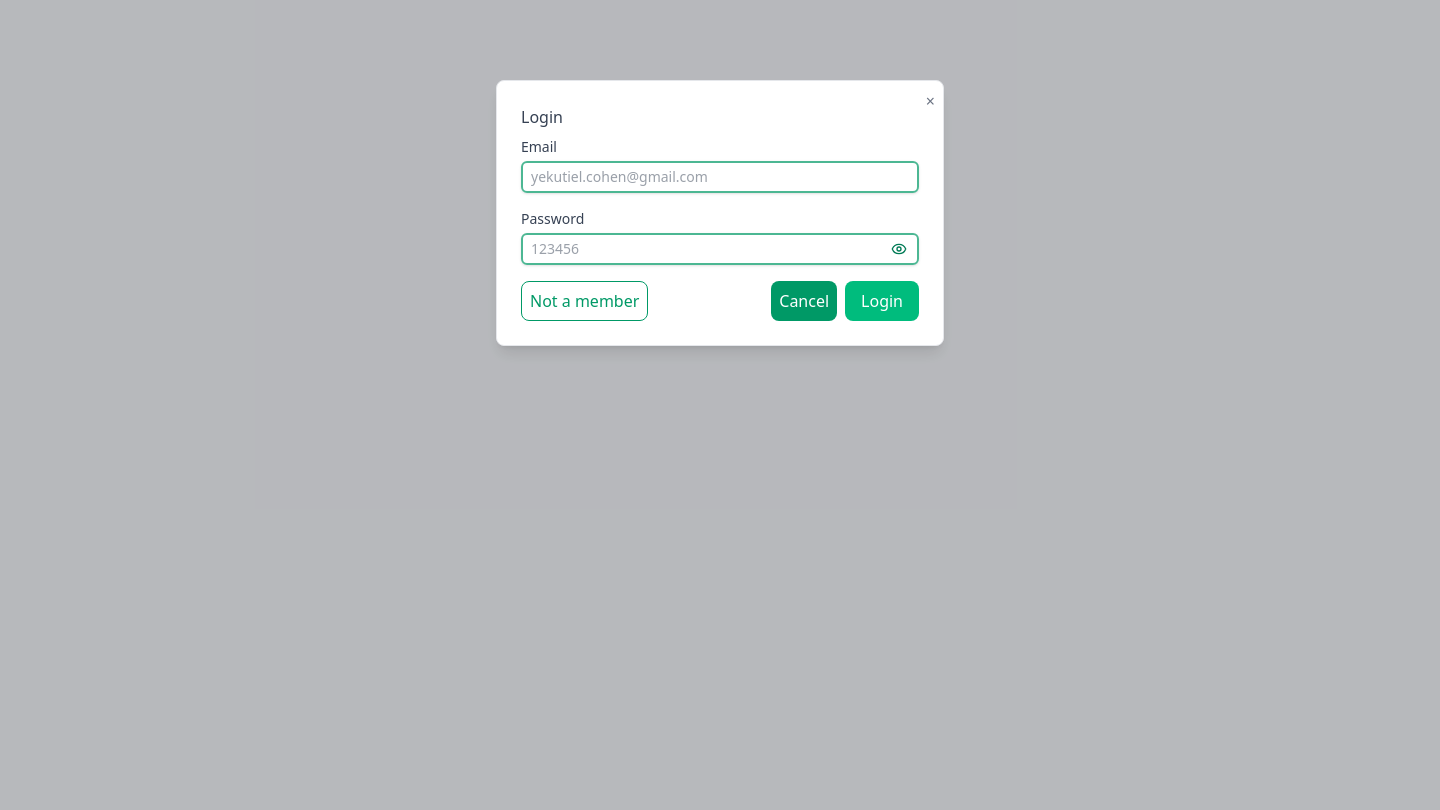
LoginForm › validation › requires a password of at least six characters
Type "a@b.com" into the field labelled "Email" at (720, 177), box [521,161,919,193]
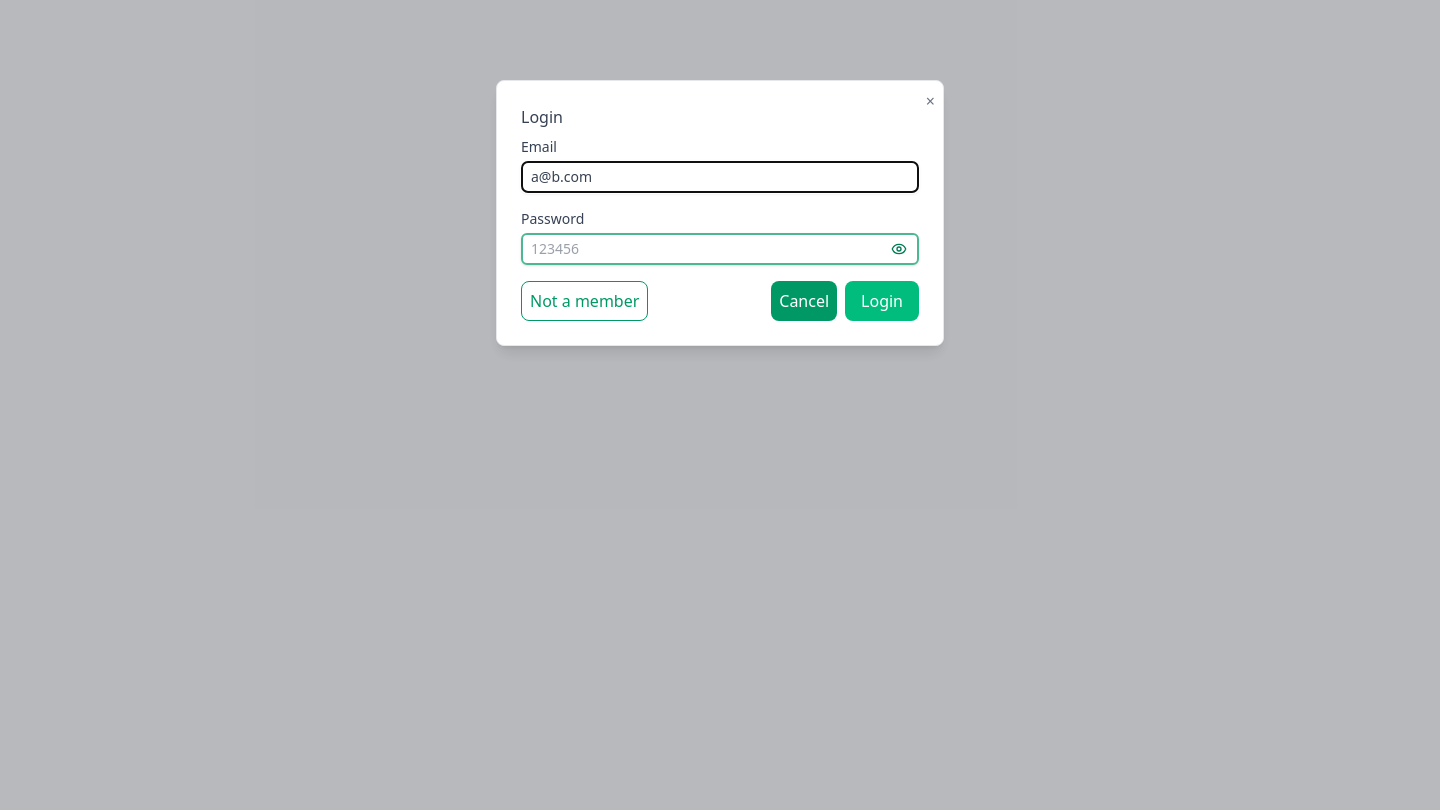
Type "12345" into the password field labelled "Password" at (720, 249), box [521,233,919,265]
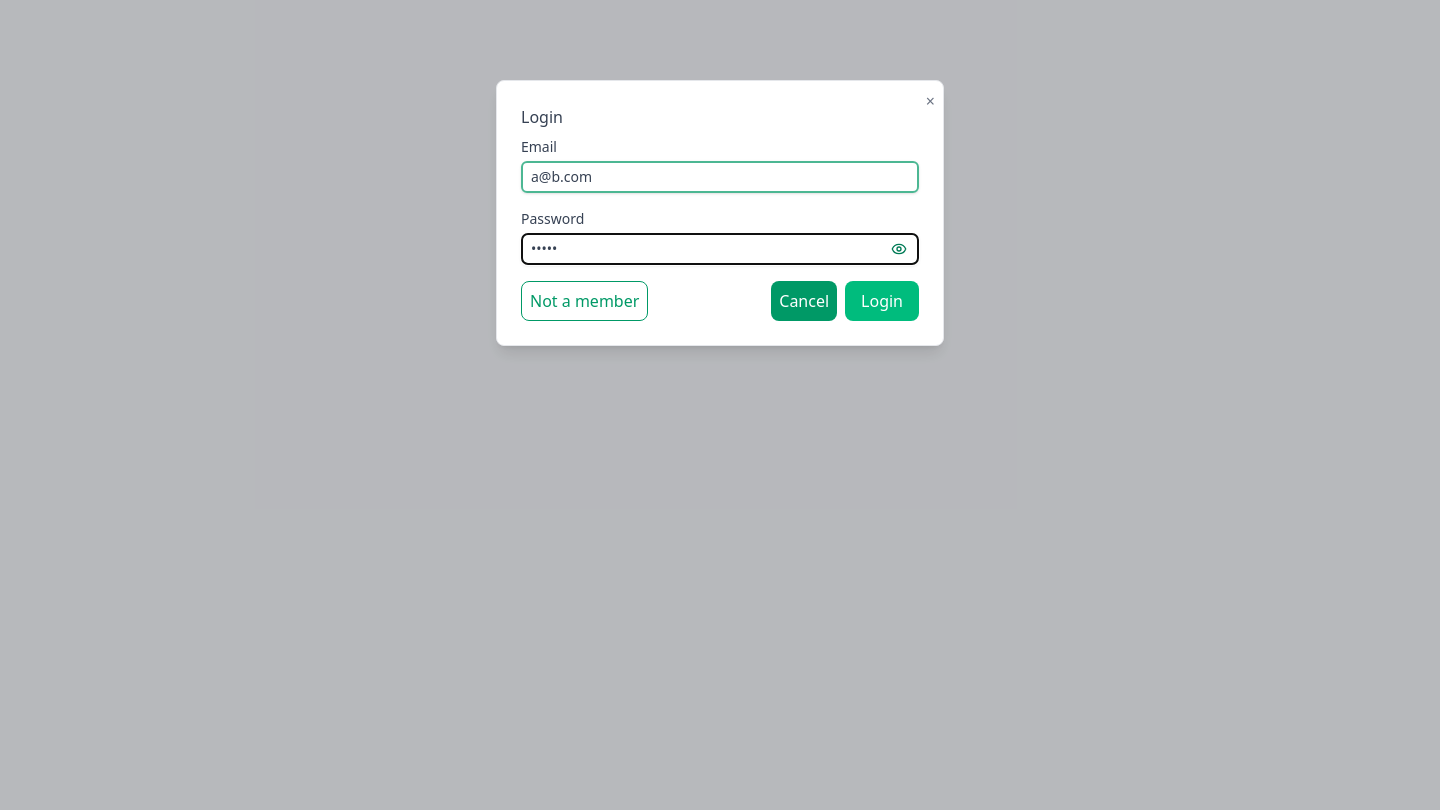
Click the button "Login" at (882, 301), box [845,281,919,321]
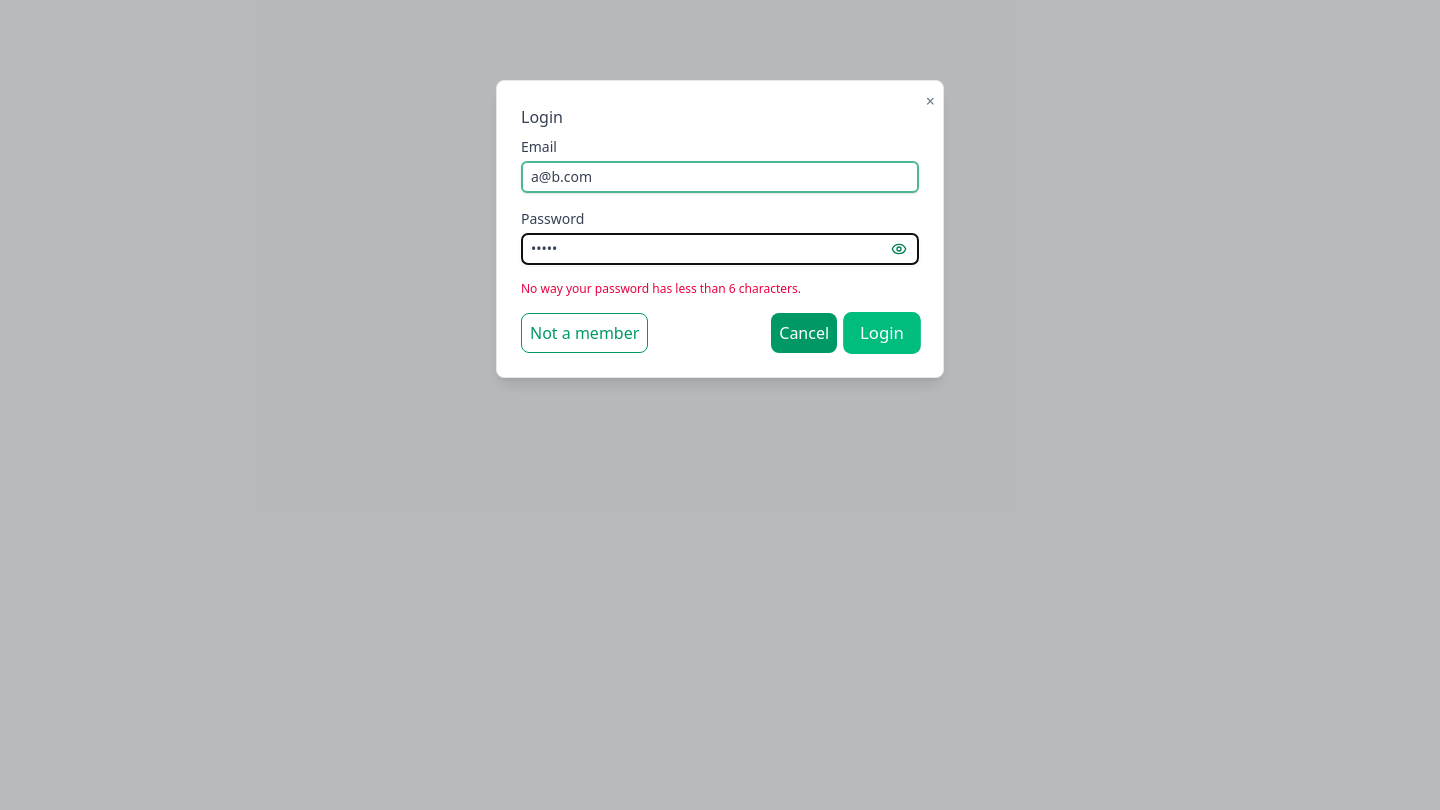
Expected: the text "No way your password has less than 6 characters." is shown, [521,280,801,297]
